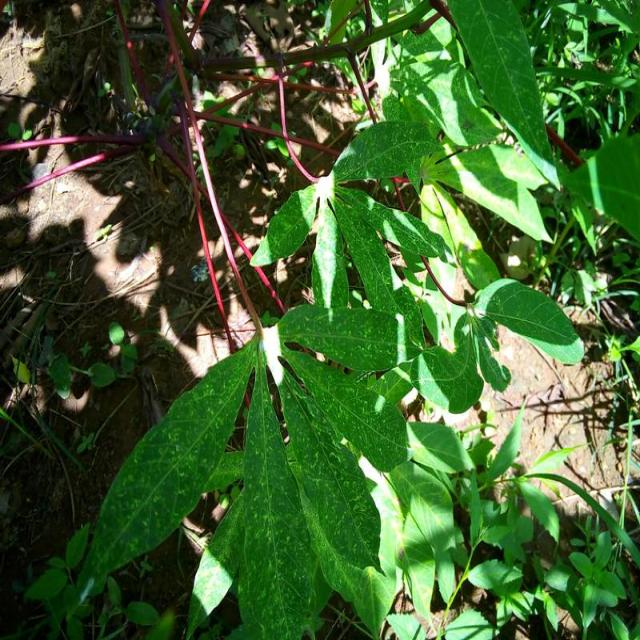cassava leaf: (74, 330, 260, 604), (448, 0, 562, 192)
